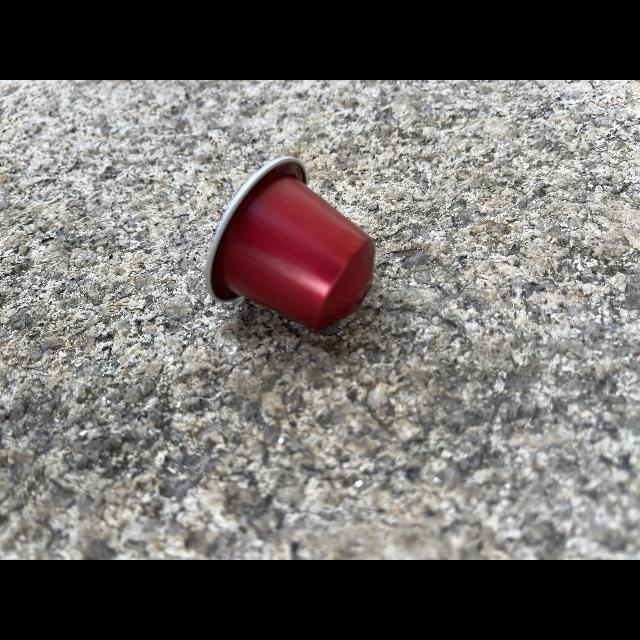intact_capsule: (196, 152, 387, 340)
